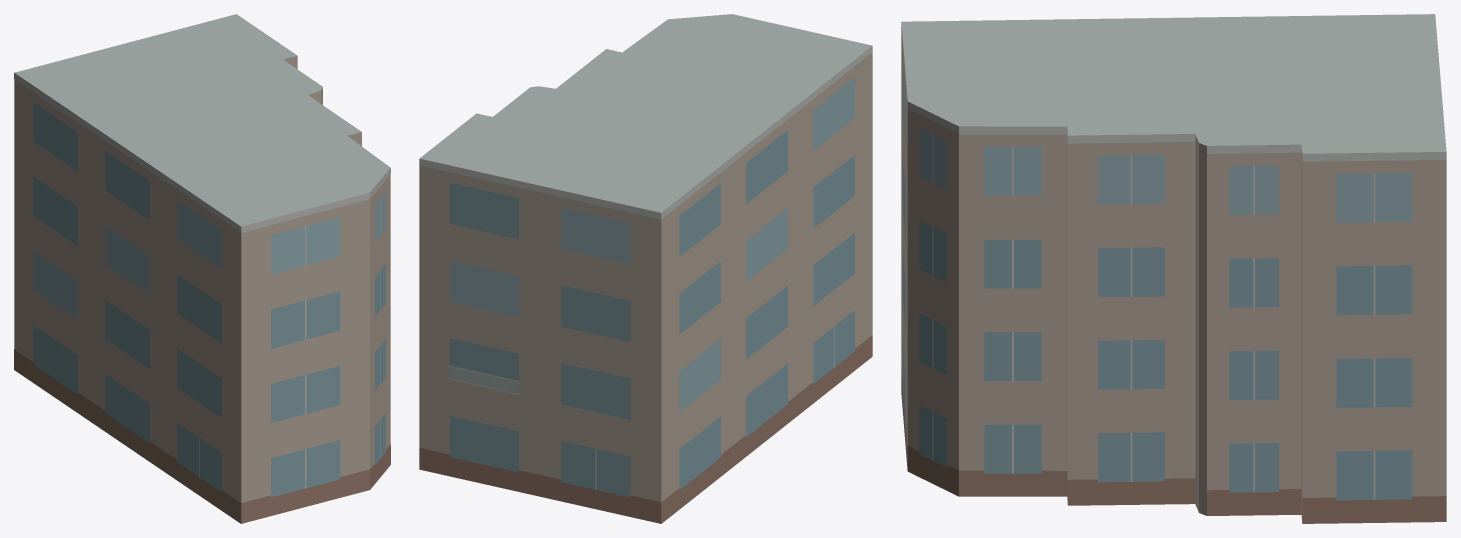
The model's file is survey-upis-33001012.glb.
3 renders of one model, left to right at view 1: azimuth 30°, elevation 25°; view 2: azimuth 150°, elevation 25°; view 3: azimuth 270°, elevation 25°, orthographic. The views are drawn at different scales.
Visible parts, largest first — view 1: survey-upis-33001012.tmp; view 2: survey-upis-33001012.tmp; view 3: survey-upis-33001012.tmp.
Boxes of the visible parts, x1,y1,x2,y2 form: survey-upis-33001012.tmp: (14, 14, 390, 523); survey-upis-33001012.tmp: (419, 14, 872, 523); survey-upis-33001012.tmp: (901, 14, 1446, 523).
Size of the model in its own units: 9.15 by 11.28 by 15.07.
